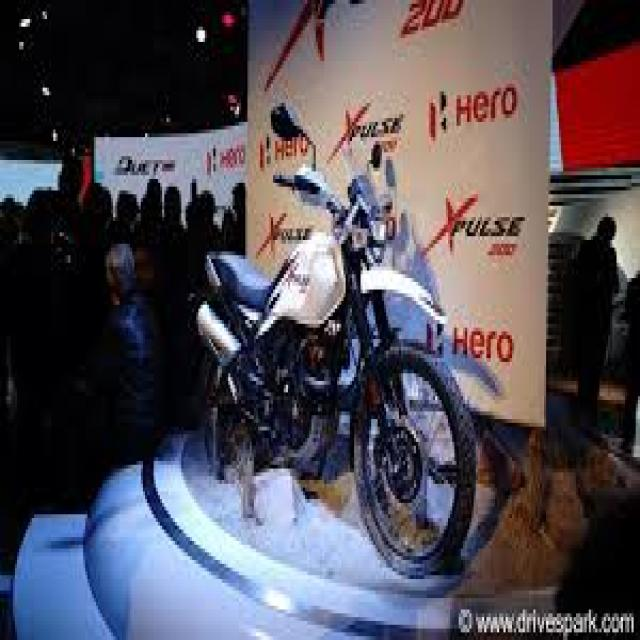bike: (193, 102, 476, 578)
